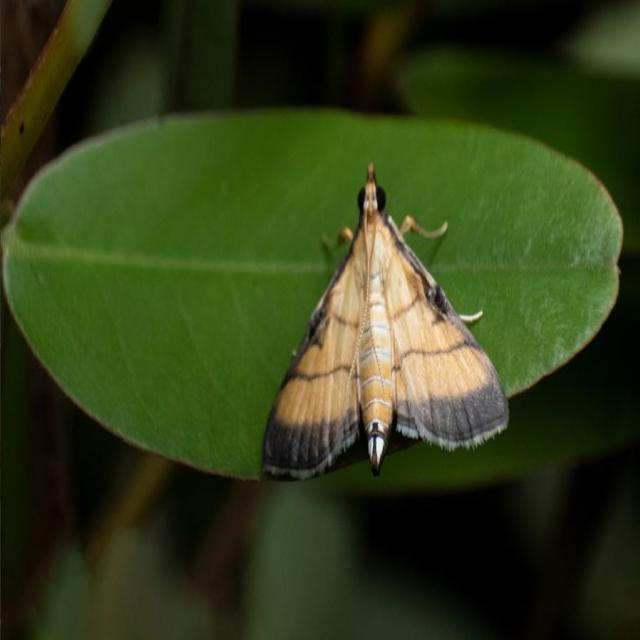rice leaf roller -penggulung daun padi-: (259, 159, 510, 482)
